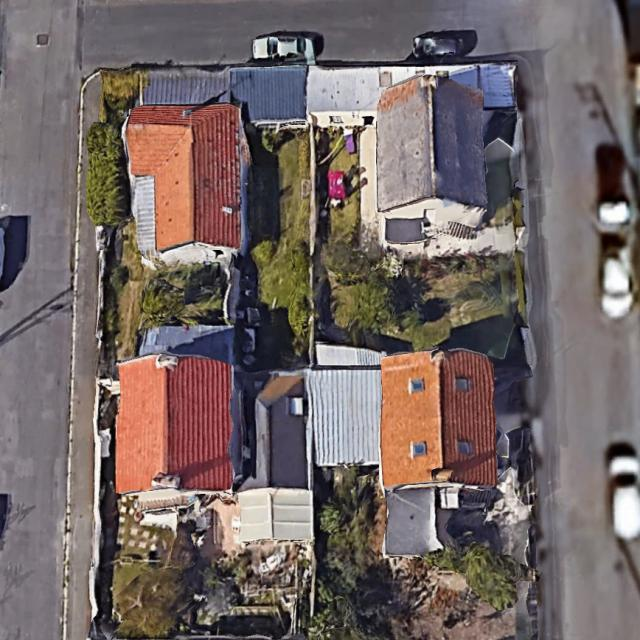maison: (305, 344, 508, 562), (119, 64, 316, 268), (371, 73, 488, 257), (115, 355, 233, 492)
